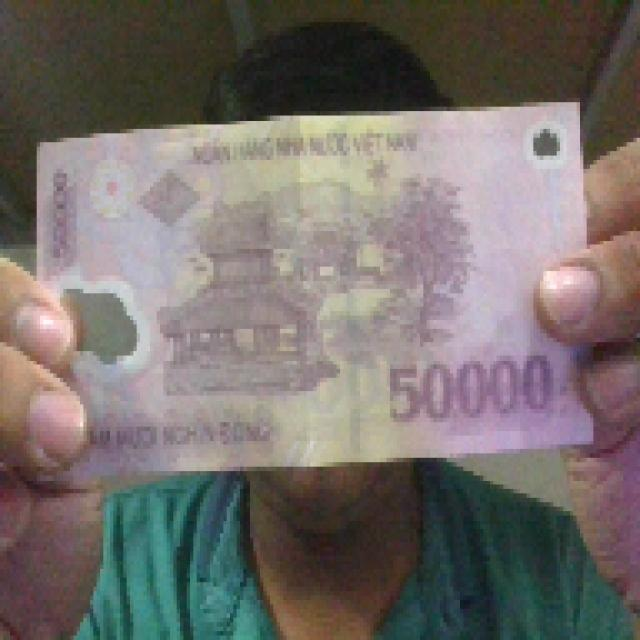20 000 VND: (30, 93, 600, 480)
